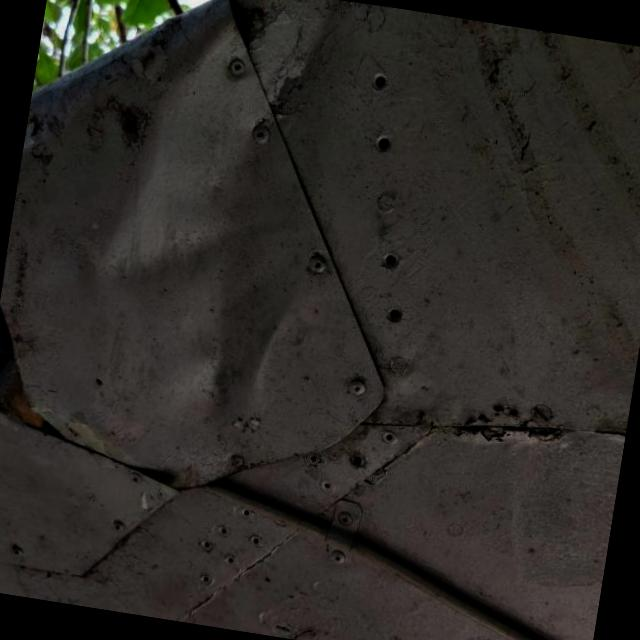Missing Fastener: (359, 64, 393, 100), (374, 248, 406, 274), (382, 301, 408, 328), (374, 130, 399, 158)
dent: (32, 14, 349, 432)
